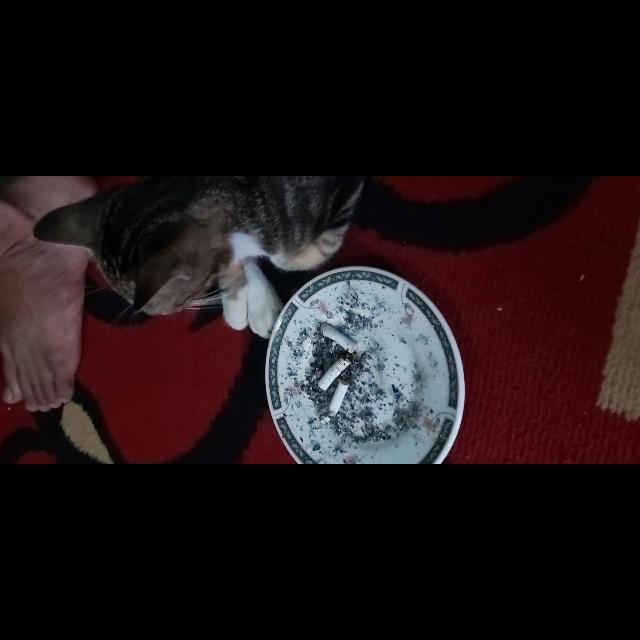rokok: (316, 321, 359, 354), (316, 356, 350, 390), (326, 380, 350, 420)
